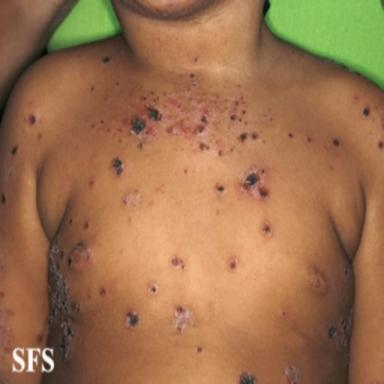Impetigo: (83, 71, 262, 158), (48, 243, 73, 362), (239, 165, 271, 201), (327, 308, 352, 348), (67, 241, 92, 273), (173, 305, 196, 333), (0, 306, 13, 352), (307, 265, 327, 294), (109, 155, 125, 180), (123, 189, 141, 207), (124, 311, 140, 328), (286, 365, 300, 384), (170, 255, 185, 271), (227, 256, 239, 272), (240, 373, 257, 384), (214, 182, 227, 196), (261, 222, 272, 237), (343, 264, 352, 280), (148, 282, 159, 295), (278, 308, 289, 321), (362, 105, 371, 118), (298, 336, 308, 347), (71, 301, 80, 313), (332, 138, 342, 148), (88, 176, 96, 188), (287, 131, 296, 141), (99, 286, 107, 297), (195, 346, 204, 355), (29, 114, 36, 124), (11, 145, 18, 155), (102, 56, 111, 63), (306, 136, 313, 144), (378, 139, 383, 150), (1, 193, 6, 204), (83, 221, 89, 230), (193, 55, 199, 64)
